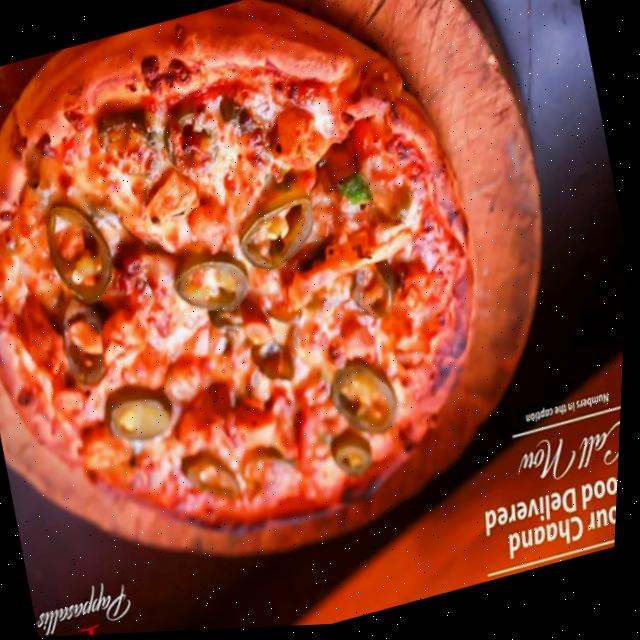pizza: (0, 0, 531, 592)
